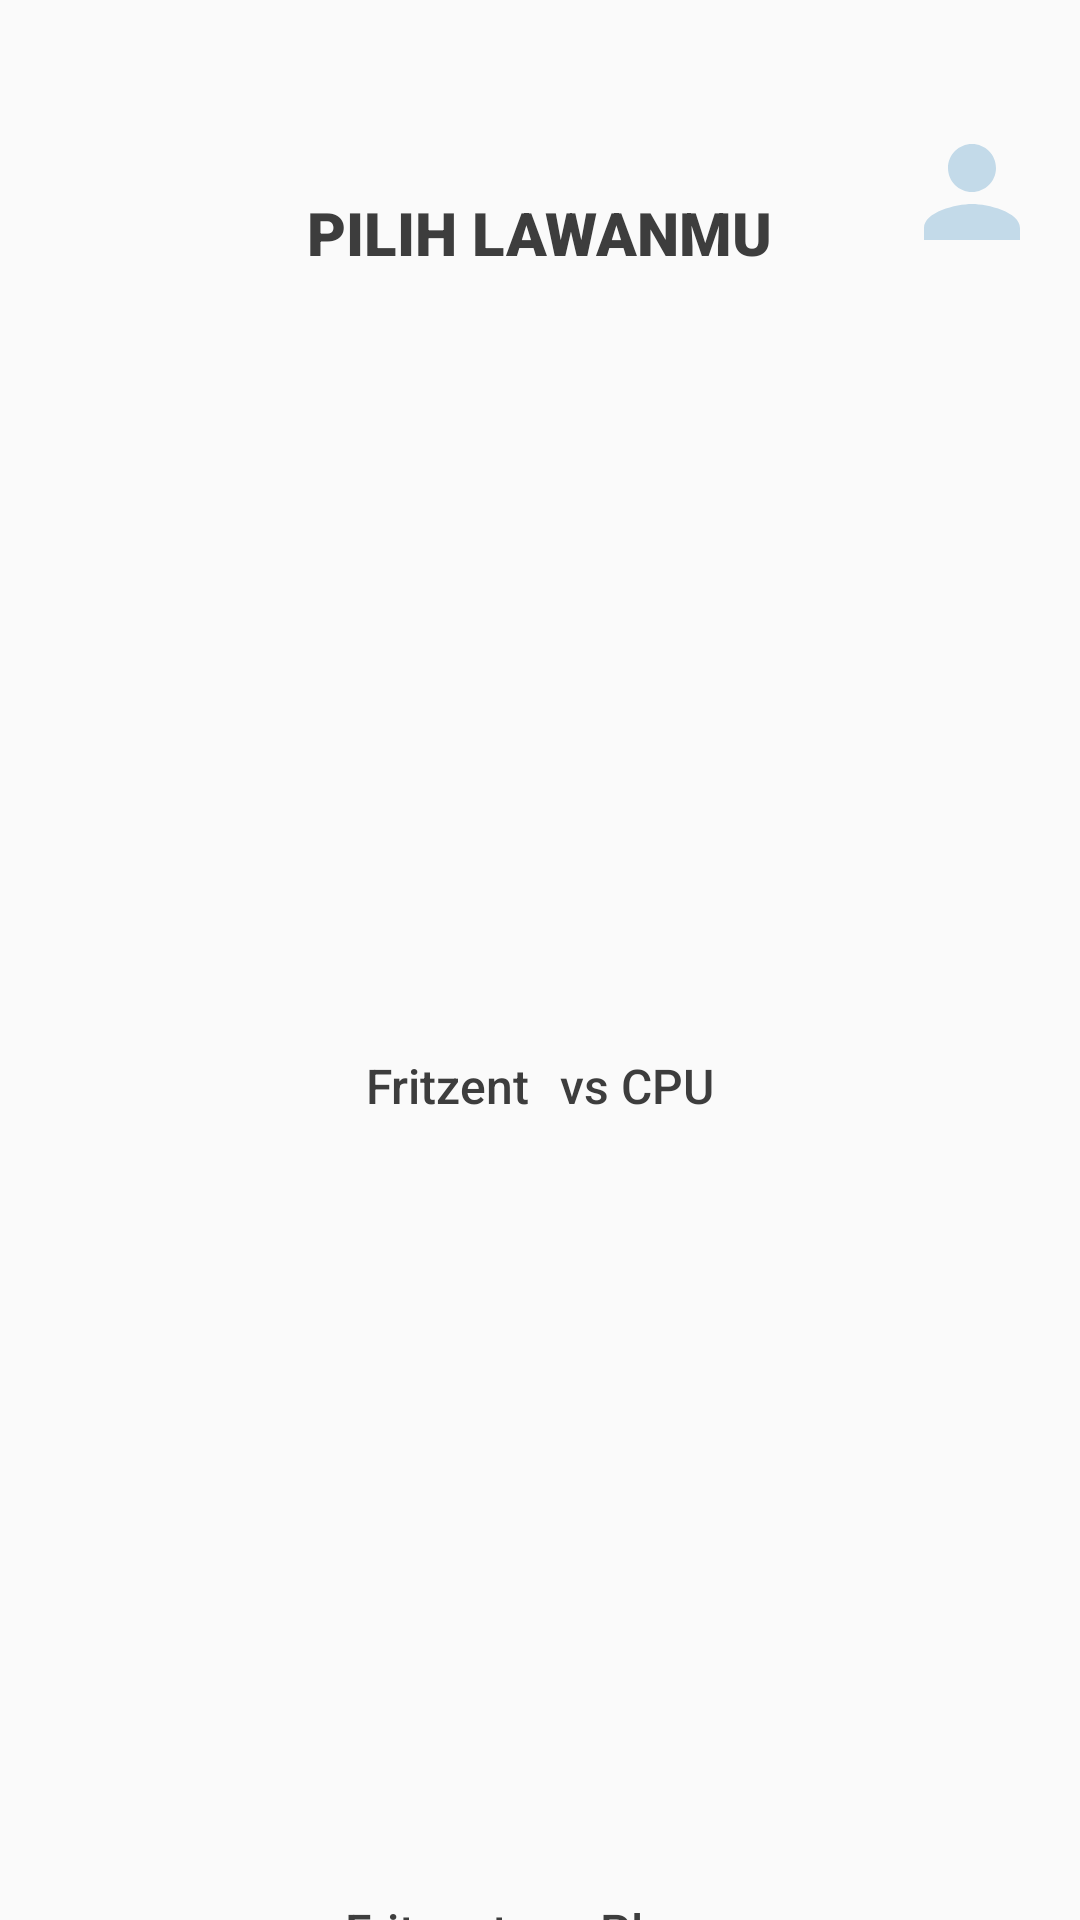

Where to tap for icons on this 1080×1920 app screen, as [x,y]:
person: [972,192]
